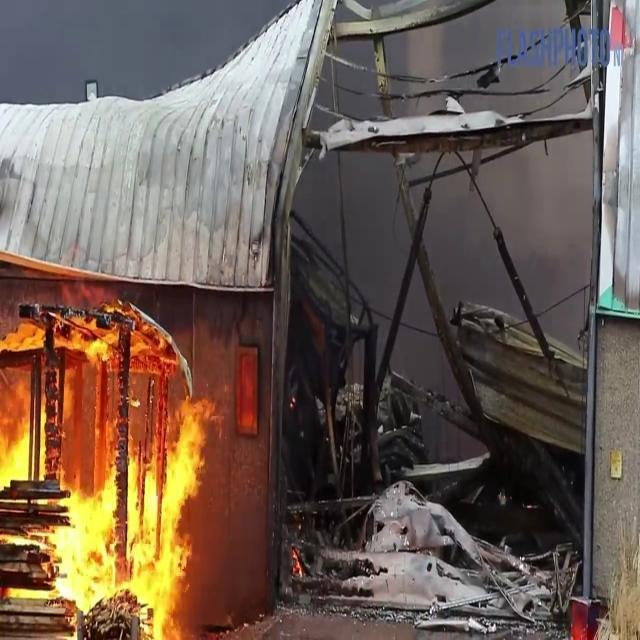Fire: (0, 325, 215, 637)
Smoke: (327, 0, 587, 417)
